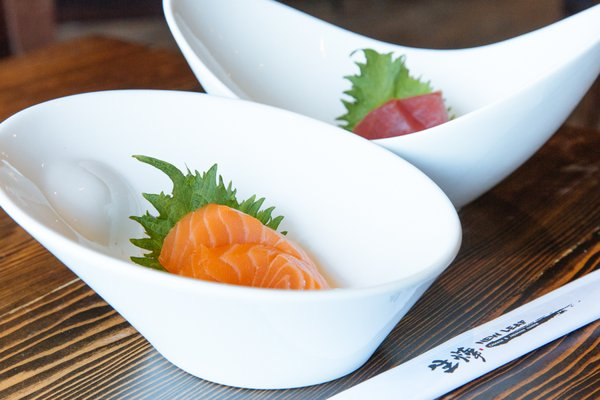sushi: (2, 88, 464, 391), (157, 0, 600, 208)
